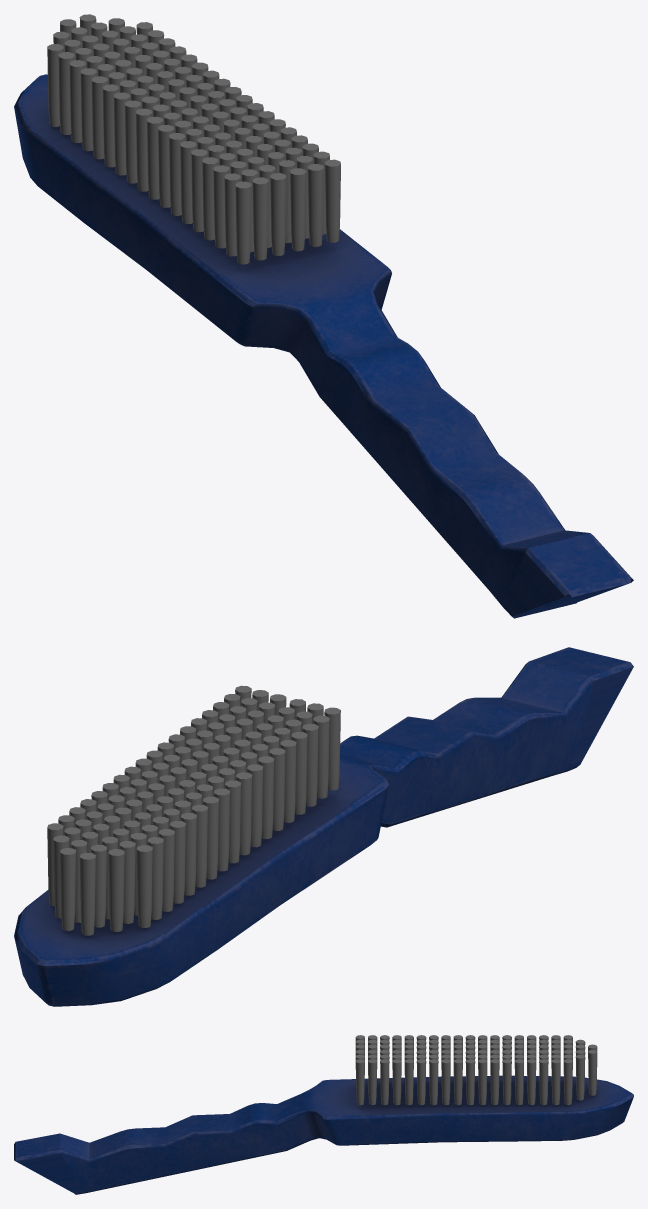
The model's file is metal_shetka.fbx.
3 renders of one model, top to bottom at view 1: azimuth 30°, elevation 25°; view 2: azimuth 150°, elevation 25°; view 3: azimuth 270°, elevation 25°, orthographic. The views are drawn at different scales.
Visible parts, largest first — view 1: SM_shetka; view 2: SM_shetka; view 3: SM_shetka.
Part boxes in pixels (x1=…): SM_shetka: x1=14, y1=14, x2=633, y2=618; SM_shetka: x1=14, y1=647, x2=633, y2=1006; SM_shetka: x1=14, y1=1035, x2=633, y2=1194.
Bounding box in the file's own units: 4.32 × 7.13 × 29.16.
2 materials, 1 textured.
